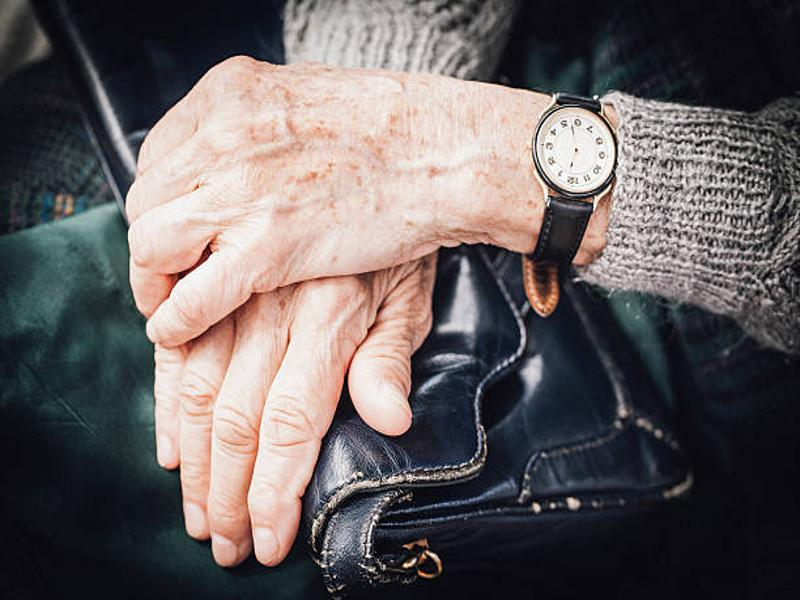watch: (524, 86, 619, 270)
